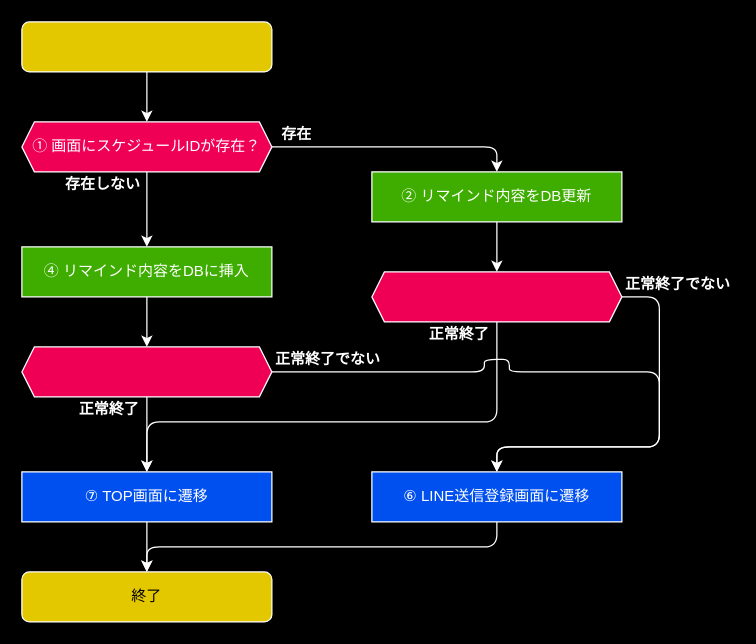
Image size: 756x644. Some labels were removed from this diagram. The centre of each missing label's shape, as x and y in pixels:
③ ②の結果が正常終了か？: point 496,296
⑤ ④の結果が正常終了か？: point 146,371
「登録ボタンタップ」: point 146,46
